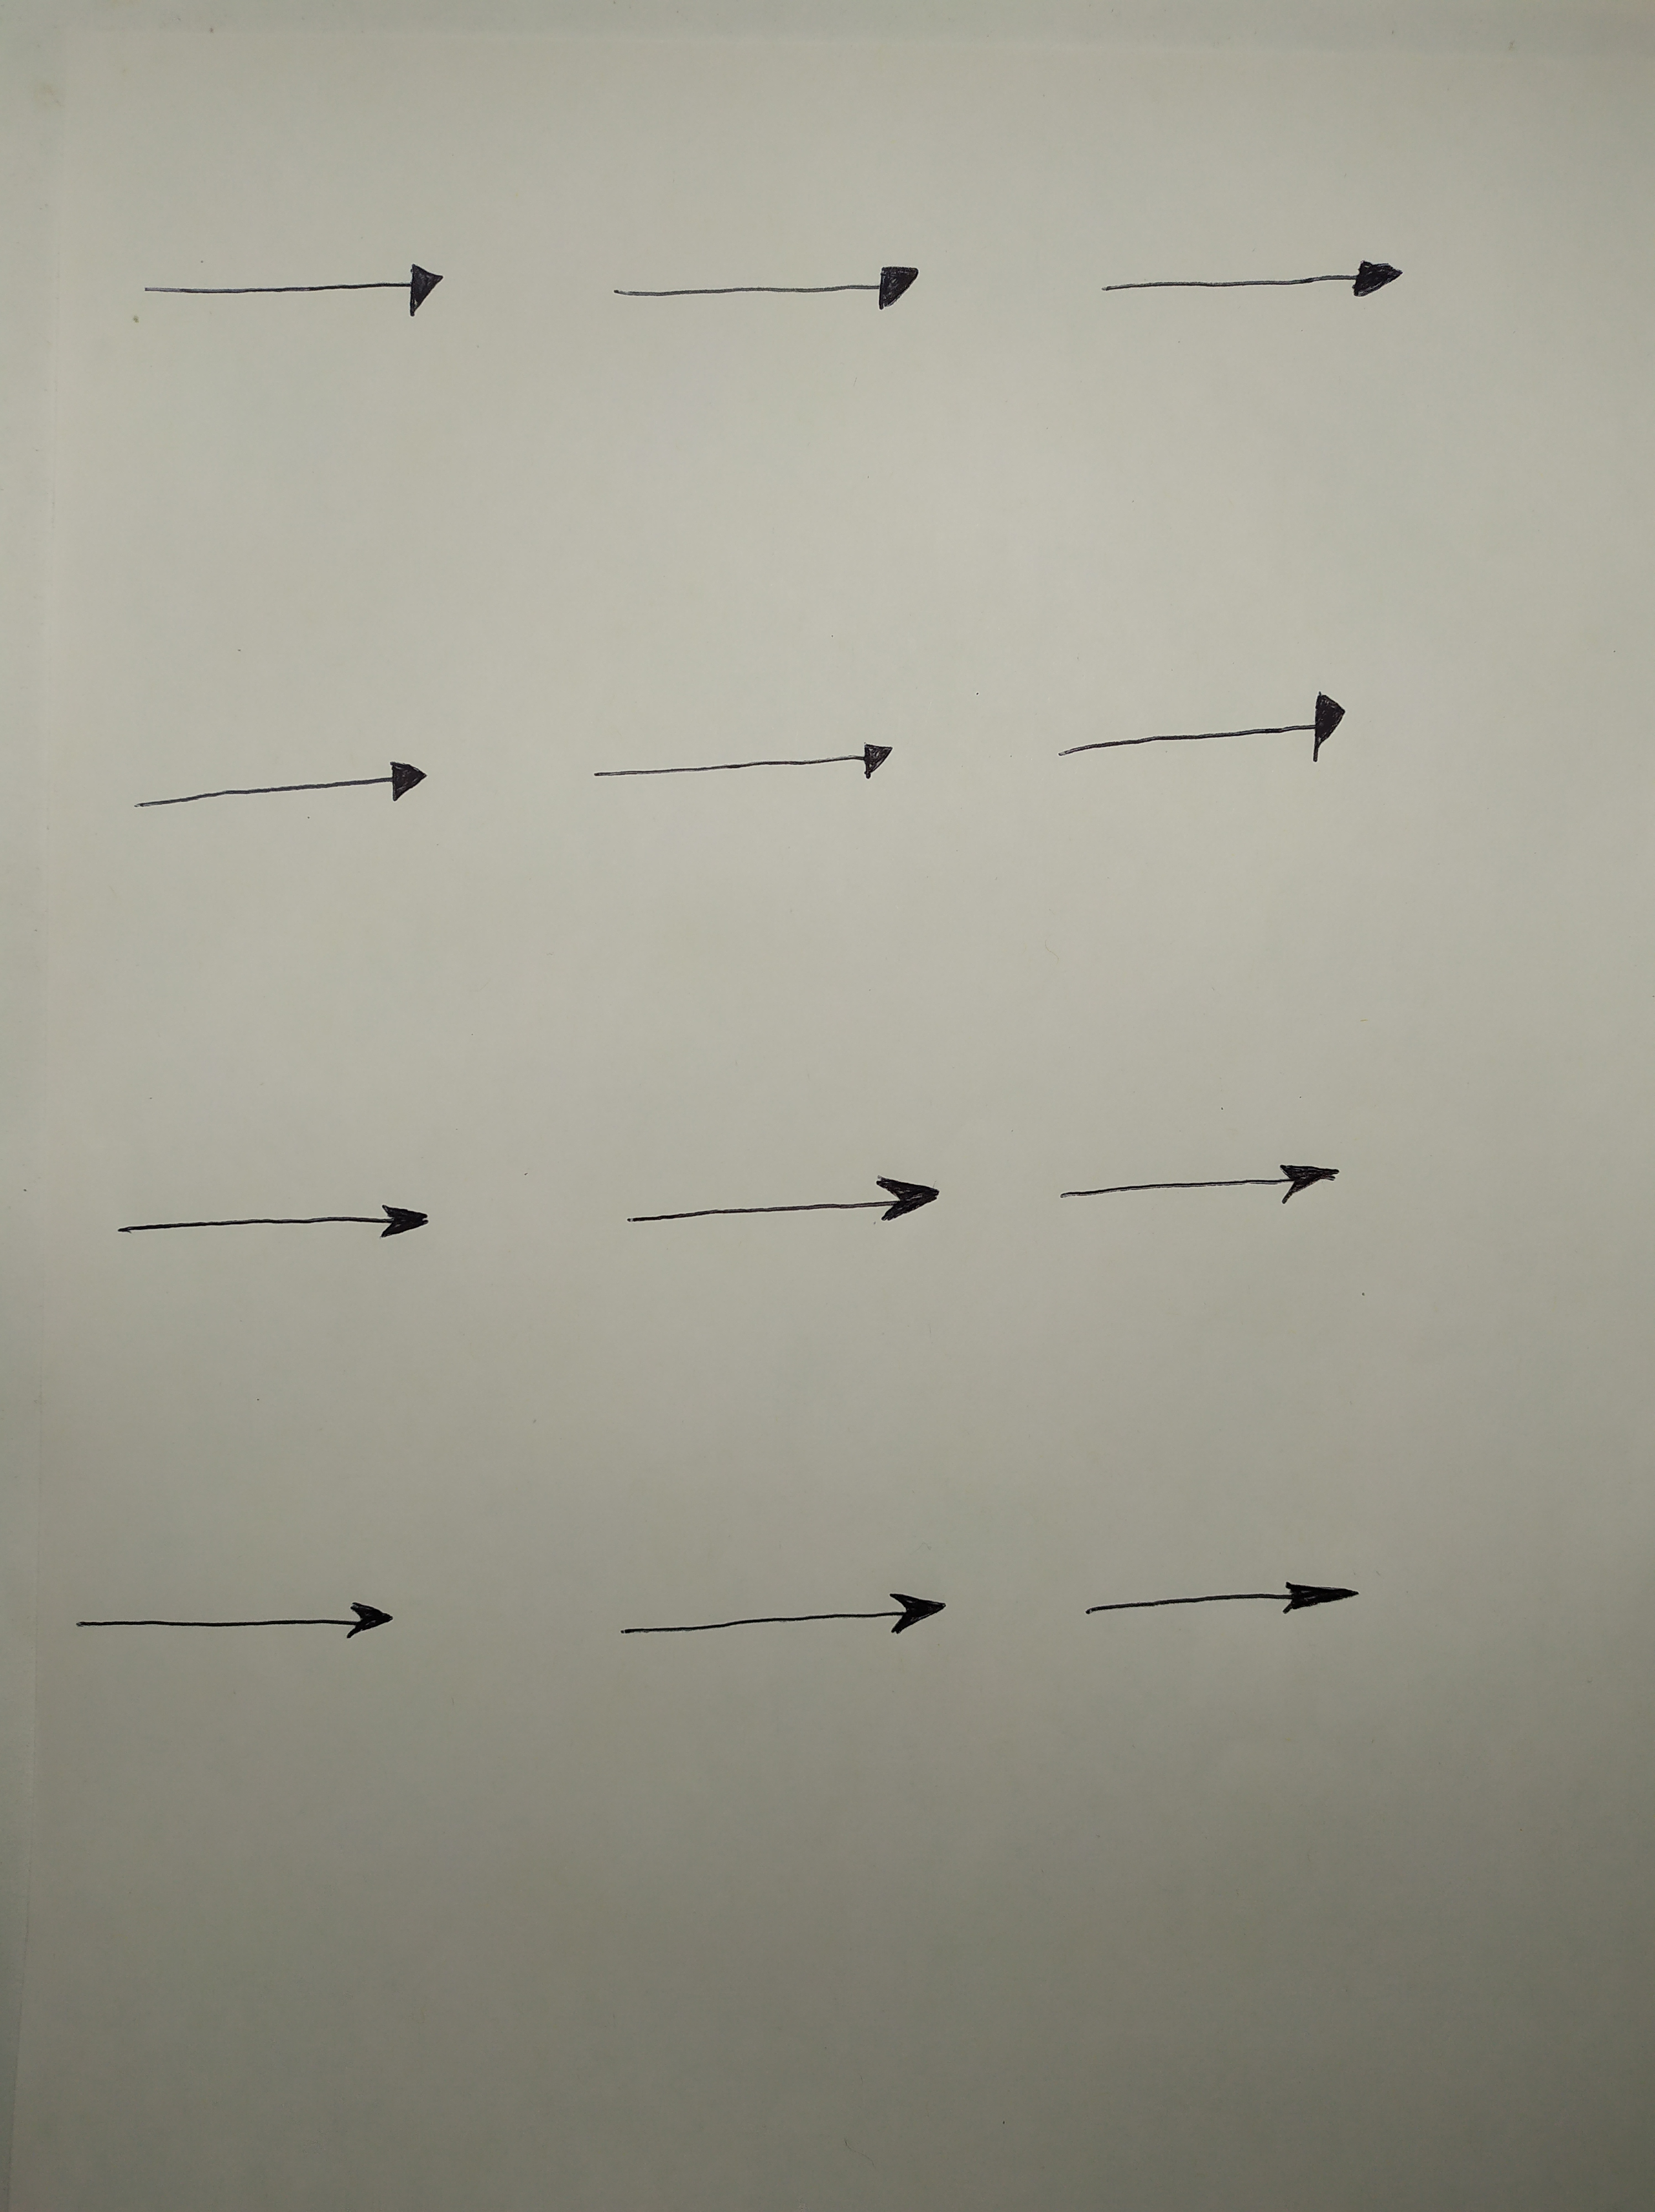arrow_line_right: (45, 1583, 443, 1689), (575, 228, 942, 334), (553, 707, 916, 813), (90, 1180, 485, 1277), (1047, 1562, 1398, 1670), (104, 730, 462, 827), (582, 1578, 974, 1666), (1040, 681, 1361, 785), (582, 1164, 974, 1249), (1073, 235, 1426, 320), (118, 250, 469, 332), (1031, 1152, 1386, 1232)
